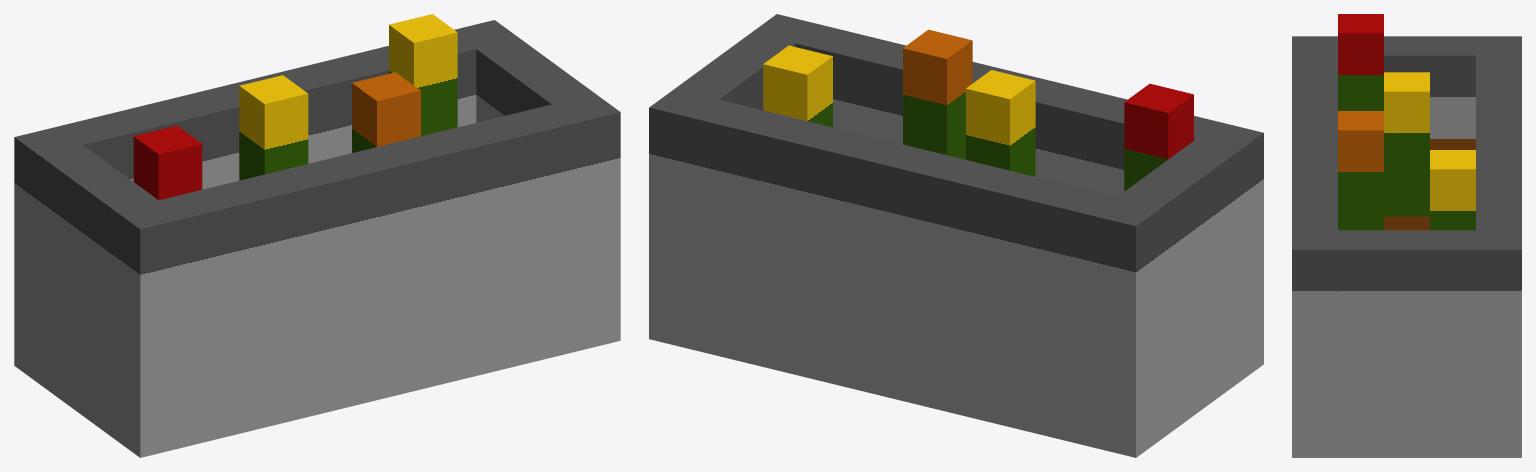
File: obj_planter3b.fbx
3 renders of one model, left to right at view 1: azimuth 30°, elevation 25°; view 2: azimuth 150°, elevation 25°; view 3: azimuth 270°, elevation 25°, orthographic. The views are drawn at different scales.
Visible parts, largest first — view 1: obj_planter3b; view 2: obj_planter3b; view 3: obj_planter3b.
Boxes of the visible parts, x1,y1,x2,y2 form: obj_planter3b: (14,14,620,457); obj_planter3b: (649,14,1263,457); obj_planter3b: (1292,14,1521,457).
Size of the model in its own units: 1.1 by 0.5 by 0.6.
1 material, 1 textured.
